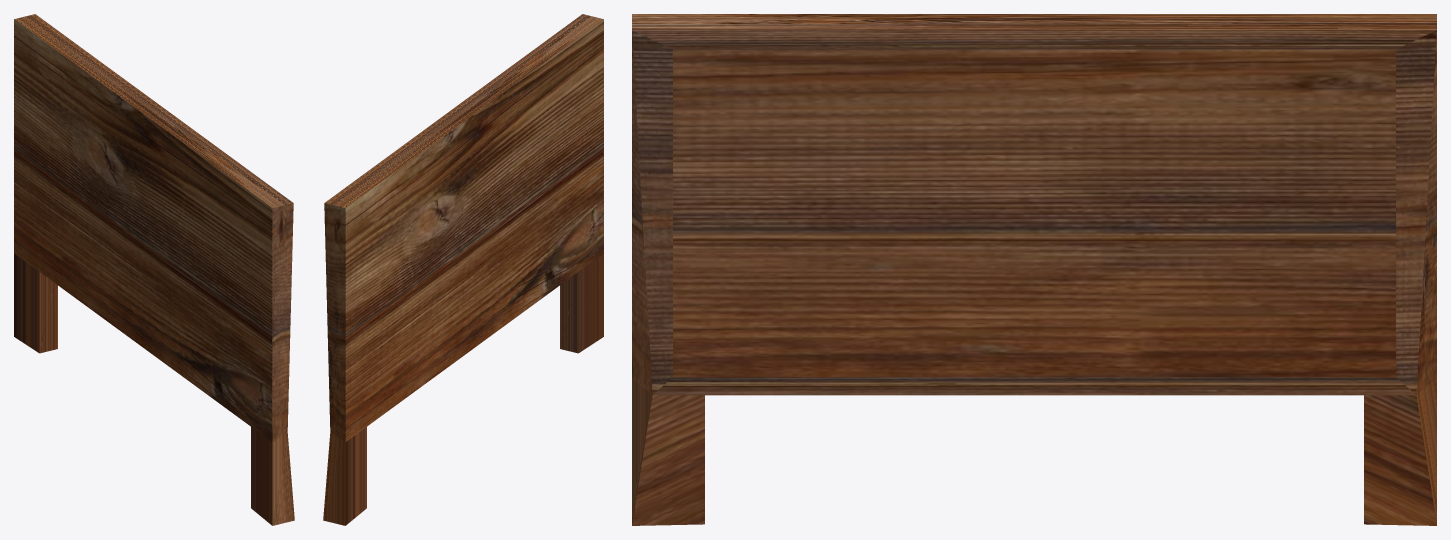
File: wooden_info_sign.fbx
3 renders of one model, left to right at view 1: azimuth 30°, elevation 25°; view 2: azimuth 150°, elevation 25°; view 3: azimuth 270°, elevation 25°, orthographic. The views are drawn at different scales.
Visible parts, largest first — view 1: Cube; view 2: Cube; view 3: Cube.
Boxes of the visible parts, x1,y1,x2,y2 form: Cube: (14,14,294,525); Cube: (323,14,603,525); Cube: (632,14,1436,525).
Bounding box in the file's own units: 140 × 1900 × 2800.
Materials: 1 (1 with a texture image).
